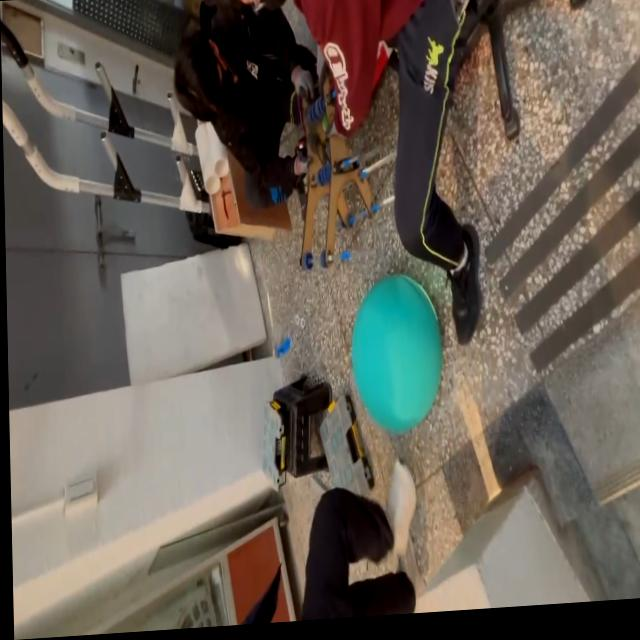ALGAE: (348, 269, 445, 439)
